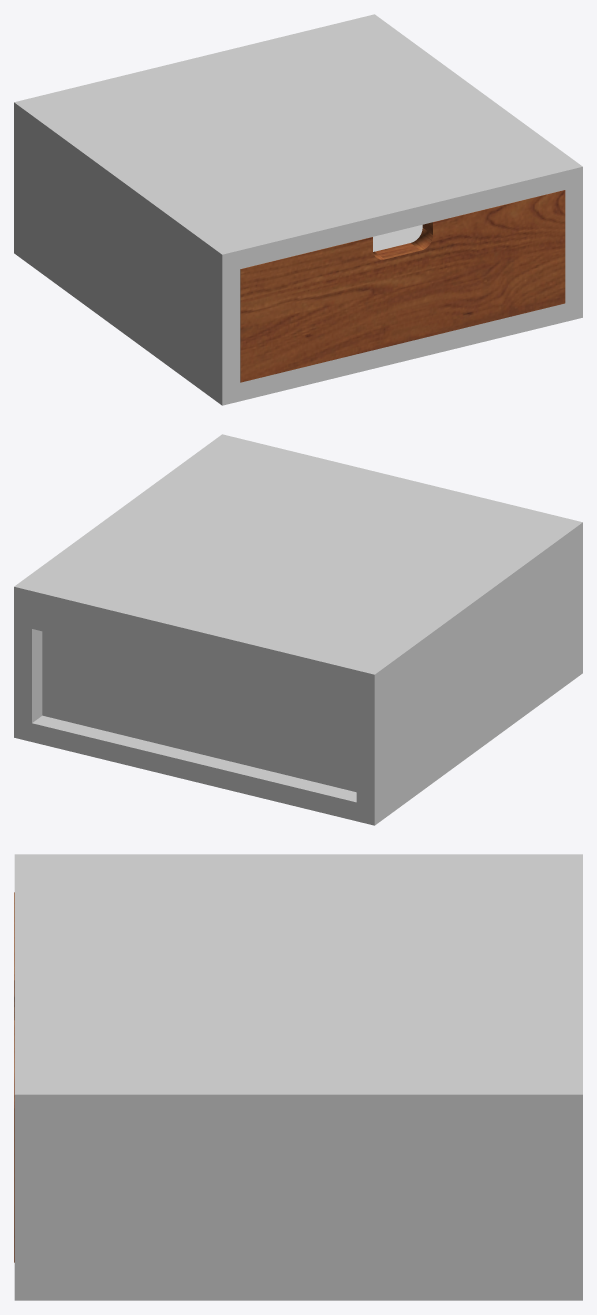
The model's file is luccy.glb.
The picture shows the model from 3 angles, top to bottom: view 1: azimuth 30°, elevation 25°; view 2: azimuth 150°, elevation 25°; view 3: azimuth 270°, elevation 25°; orthographic projection. The views are drawn at different scales.
Visible parts, largest first — view 1: G-__557814, G-__557805, G-__557796; view 2: G-__557814; view 3: G-__557814.
Part boxes in pixels (bbox=[...]): G-__557814: bbox=[14, 14, 582, 405]; G-__557805: bbox=[240, 190, 565, 382]; G-__557796: bbox=[373, 225, 422, 251]; G-__557814: bbox=[14, 434, 582, 825]; G-__557814: bbox=[14, 854, 582, 1300].
Size of the model in its own units: 0.3 by 0.12 by 0.3004.
2 materials, 1 textured.
